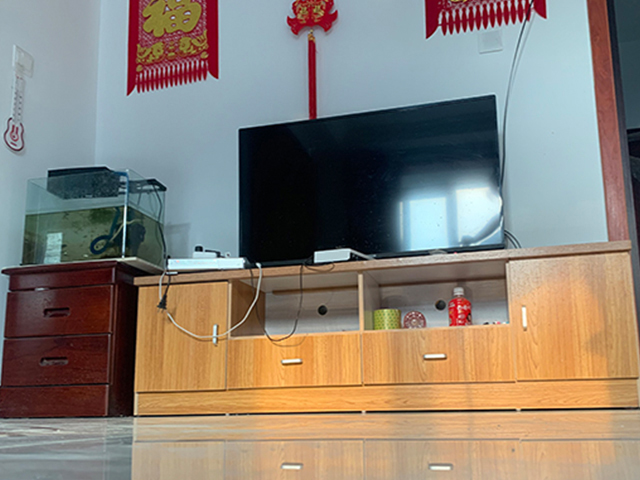cabinet: (132, 240, 640, 417), (1, 261, 139, 419)
wire: (154, 245, 306, 336)
